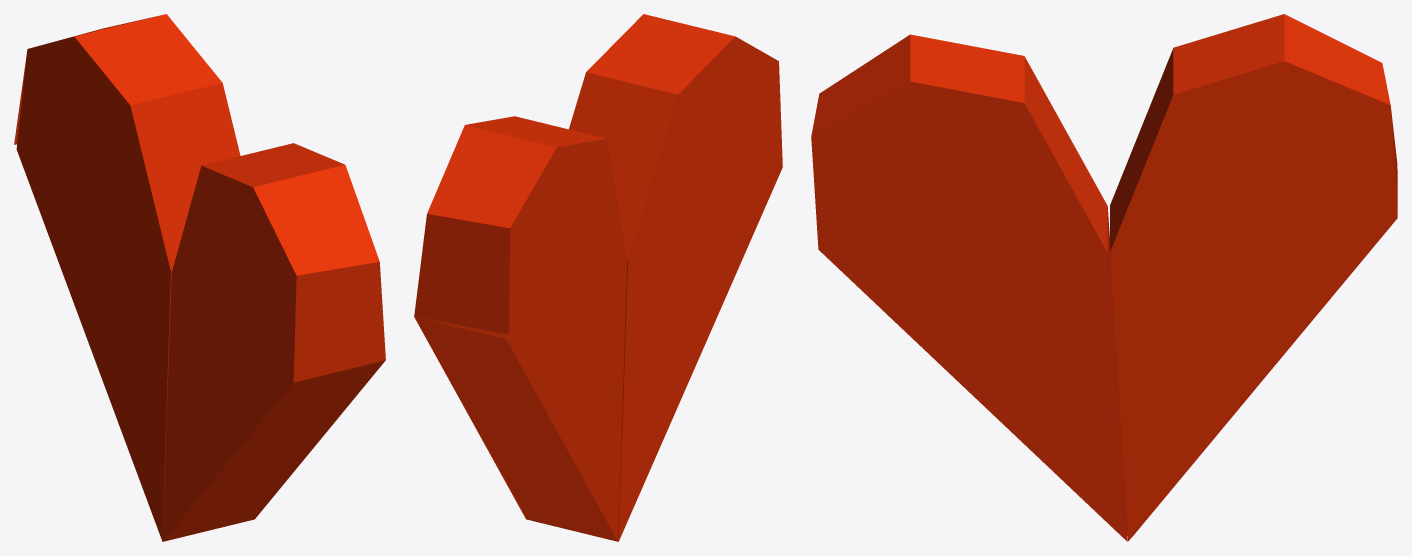
File: heart.glb
3 renders of one model, left to right at view 1: azimuth 30°, elevation 25°; view 2: azimuth 150°, elevation 25°; view 3: azimuth 270°, elevation 25°, orthographic. The views are drawn at different scales.
Parts seen in each view (by area): view 1: Circle; view 2: Circle; view 3: Circle.
Part boxes in pixels (x1,y1,x2,y2): Circle: [14, 14, 385, 541]; Circle: [414, 14, 782, 541]; Circle: [811, 14, 1397, 541].
Size of the model in its own units: 0.6629 by 2.57 by 2.88.
